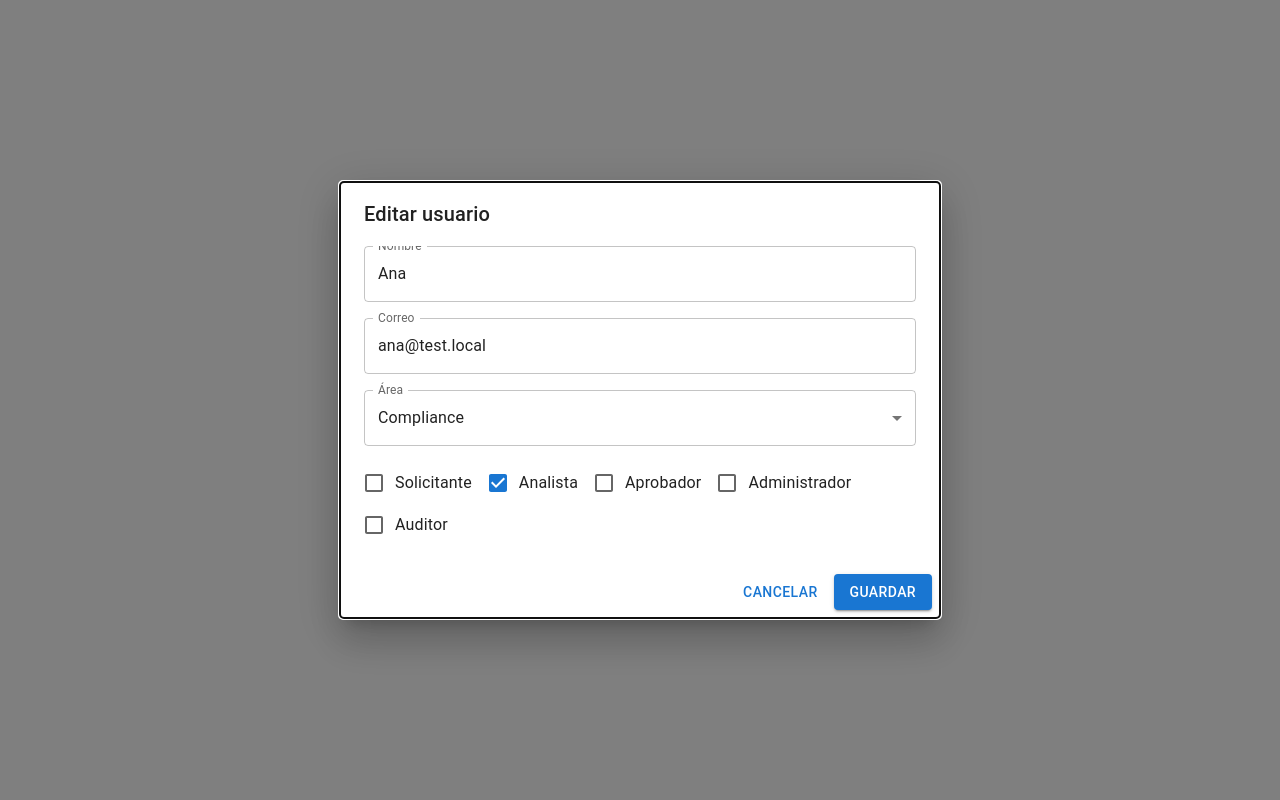
it: UserDialog muestra el error 409 del servidor
The width and height of the screenshot is (1280, 800).
Step 1. Click the button "Guardar" → (883,592), box [834, 574, 932, 610]
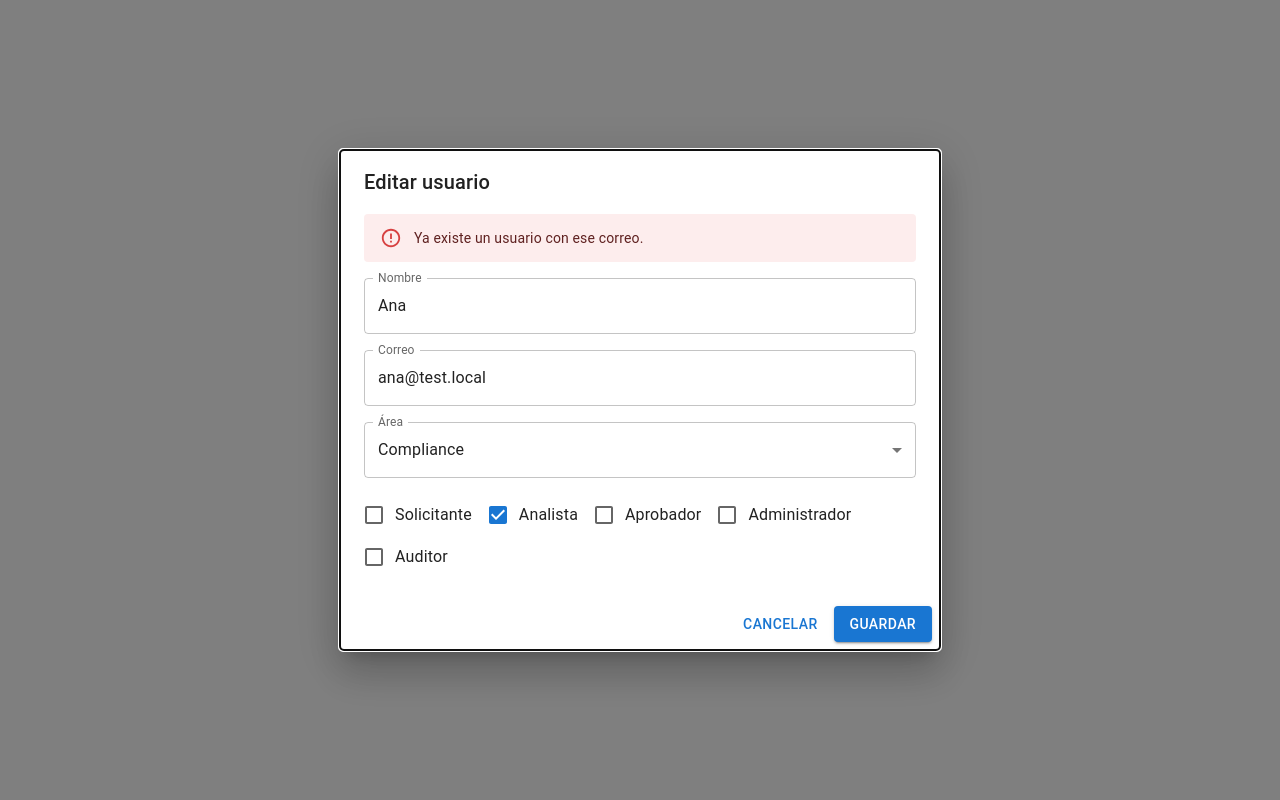
expect the text "Ya existe un usuario con ese correo." is shown: met, box [414, 230, 644, 246]
